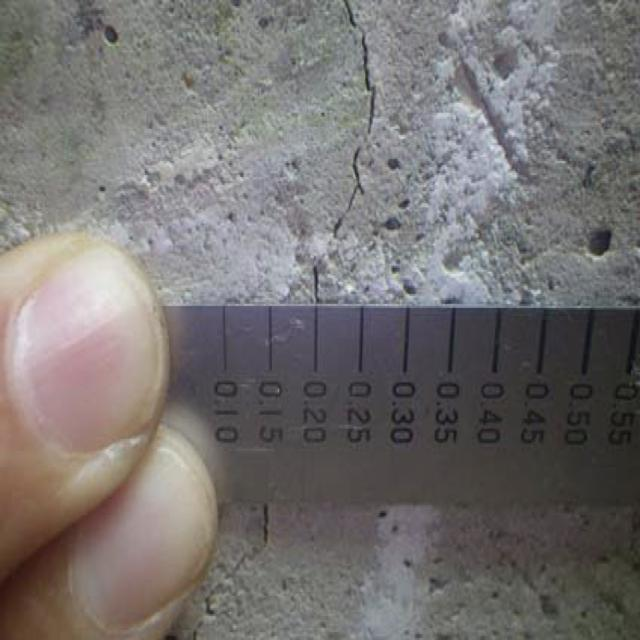crack: (296, 7, 391, 296), (205, 498, 295, 640)
